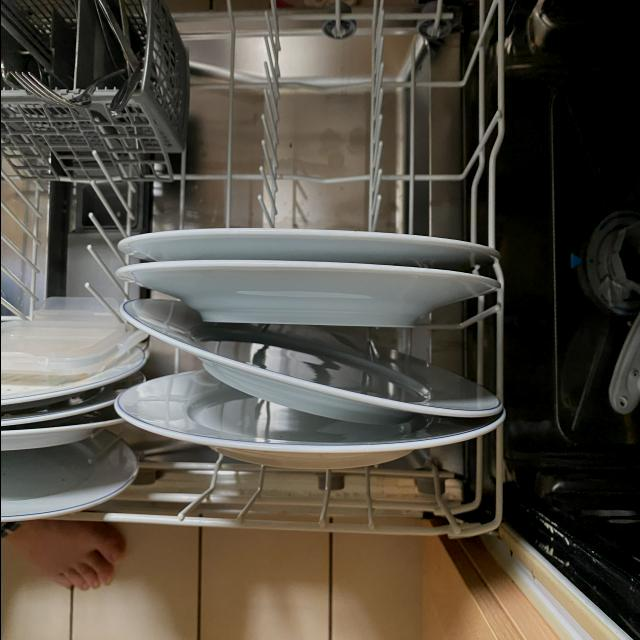clutery_bin: (3, 3, 164, 114)
empty_slot: (198, 0, 492, 225), (2, 174, 115, 310)
